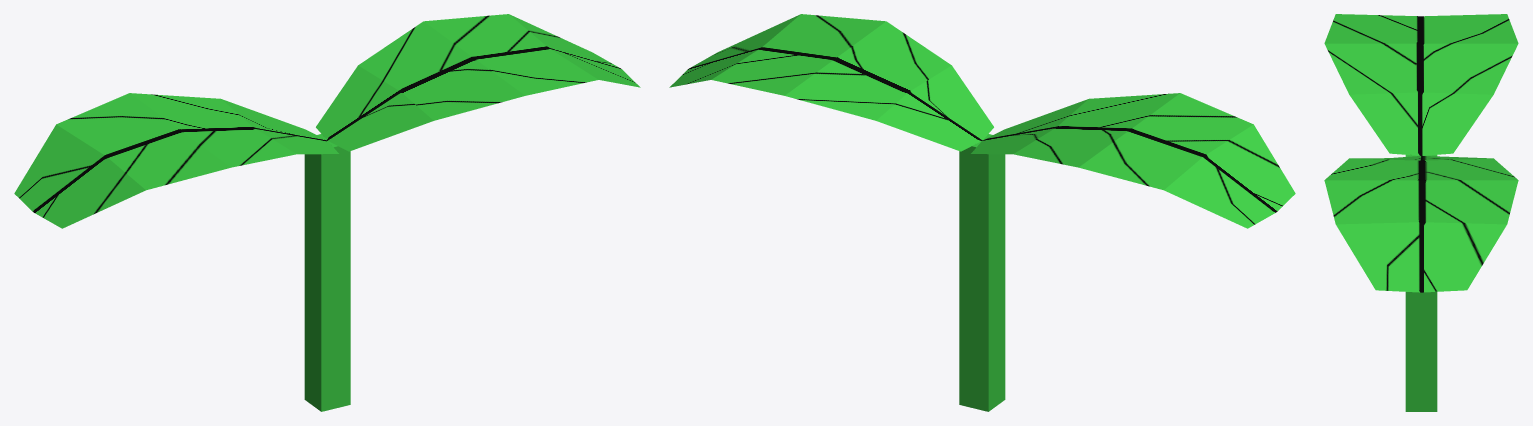
File: bud.fbx
3 renders of one model, left to right at view 1: azimuth 30°, elevation 25°; view 2: azimuth 150°, elevation 25°; view 3: azimuth 270°, elevation 25°, orthographic. The views are drawn at different scales.
Parts seen in each view (by area): view 1: 平面, 平面.001, 立方体; view 2: 平面, 平面.001, 立方体; view 3: 平面.001, 平面, 立方体.
Part boxes in pixels (<box>): 平面: <box>14,93,338,228</box>; 平面.001: <box>316,14,640,151</box>; 立方体: <box>304,134,350,411</box>; 平面: <box>971,93,1295,228</box>; 平面.001: <box>669,14,993,151</box>; 立方体: <box>959,134,1005,411</box>; 平面.001: <box>1324,156,1518,292</box>; 平面: <box>1324,14,1518,155</box>; 立方体: <box>1405,155,1437,411</box>.
Bounding box in the file's own units: 39.99 × 20 × 12.
1 material, 1 textured.
